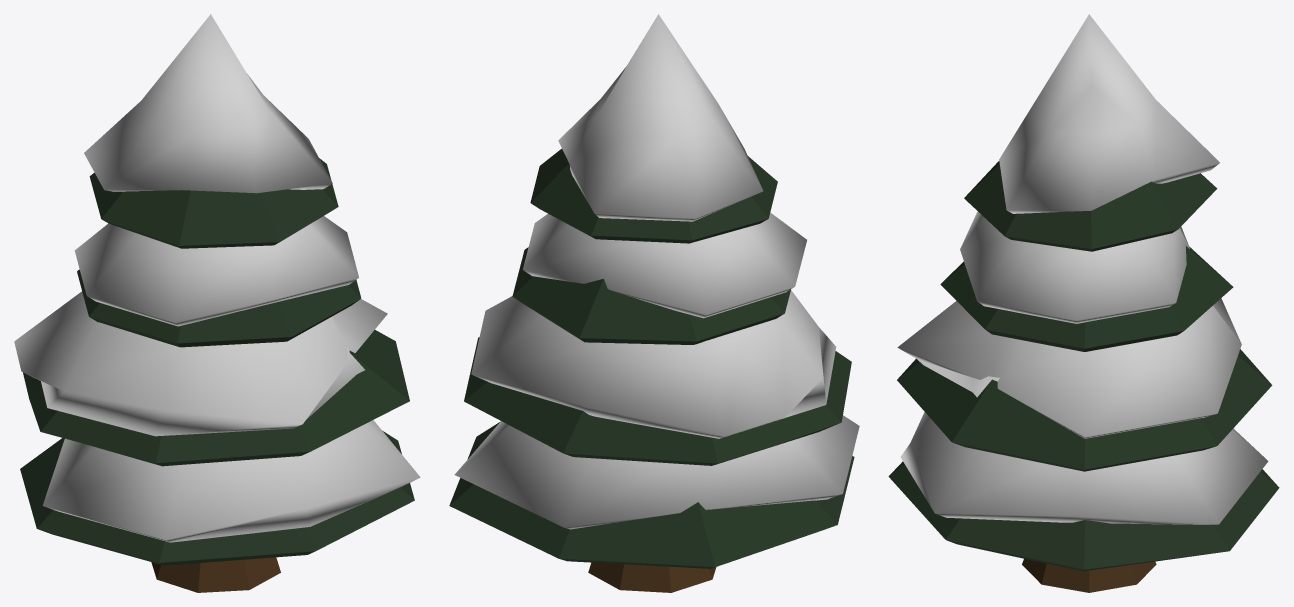
The model's file is WinterTreeSNOW.glb.
3 views of the same model, side by side, from view 1: azimuth 30°, elevation 25°; view 2: azimuth 150°, elevation 25°; view 3: azimuth 270°, elevation 25° (orthographic).
Visible parts, largest first — view 1: Cylinder.008, Cylinder.001, Cylinder; view 2: Cylinder.008, Cylinder.001, Cylinder; view 3: Cylinder.008, Cylinder.001, Cylinder.
Part boxes in pixels (left/top/right/bottom): Cylinder.008: left=14, top=14, right=420, bottom=542; Cylinder.001: left=20, top=158, right=414, bottom=565; Cylinder: left=151, top=557, right=280, bottom=592; Cylinder.008: left=454, top=14, right=859, bottom=529; Cylinder.001: left=449, top=148, right=854, bottom=568; Cylinder: left=588, top=562, right=716, bottom=592; Cylinder.008: left=897, top=14, right=1268, bottom=524; Cylinder.001: left=888, top=161, right=1279, bottom=571; Cylinder: left=1022, top=558, right=1156, bottom=592.
Size of the model in its own units: 7.48 by 10.91 by 7.06.
3 materials, 3 textured.
